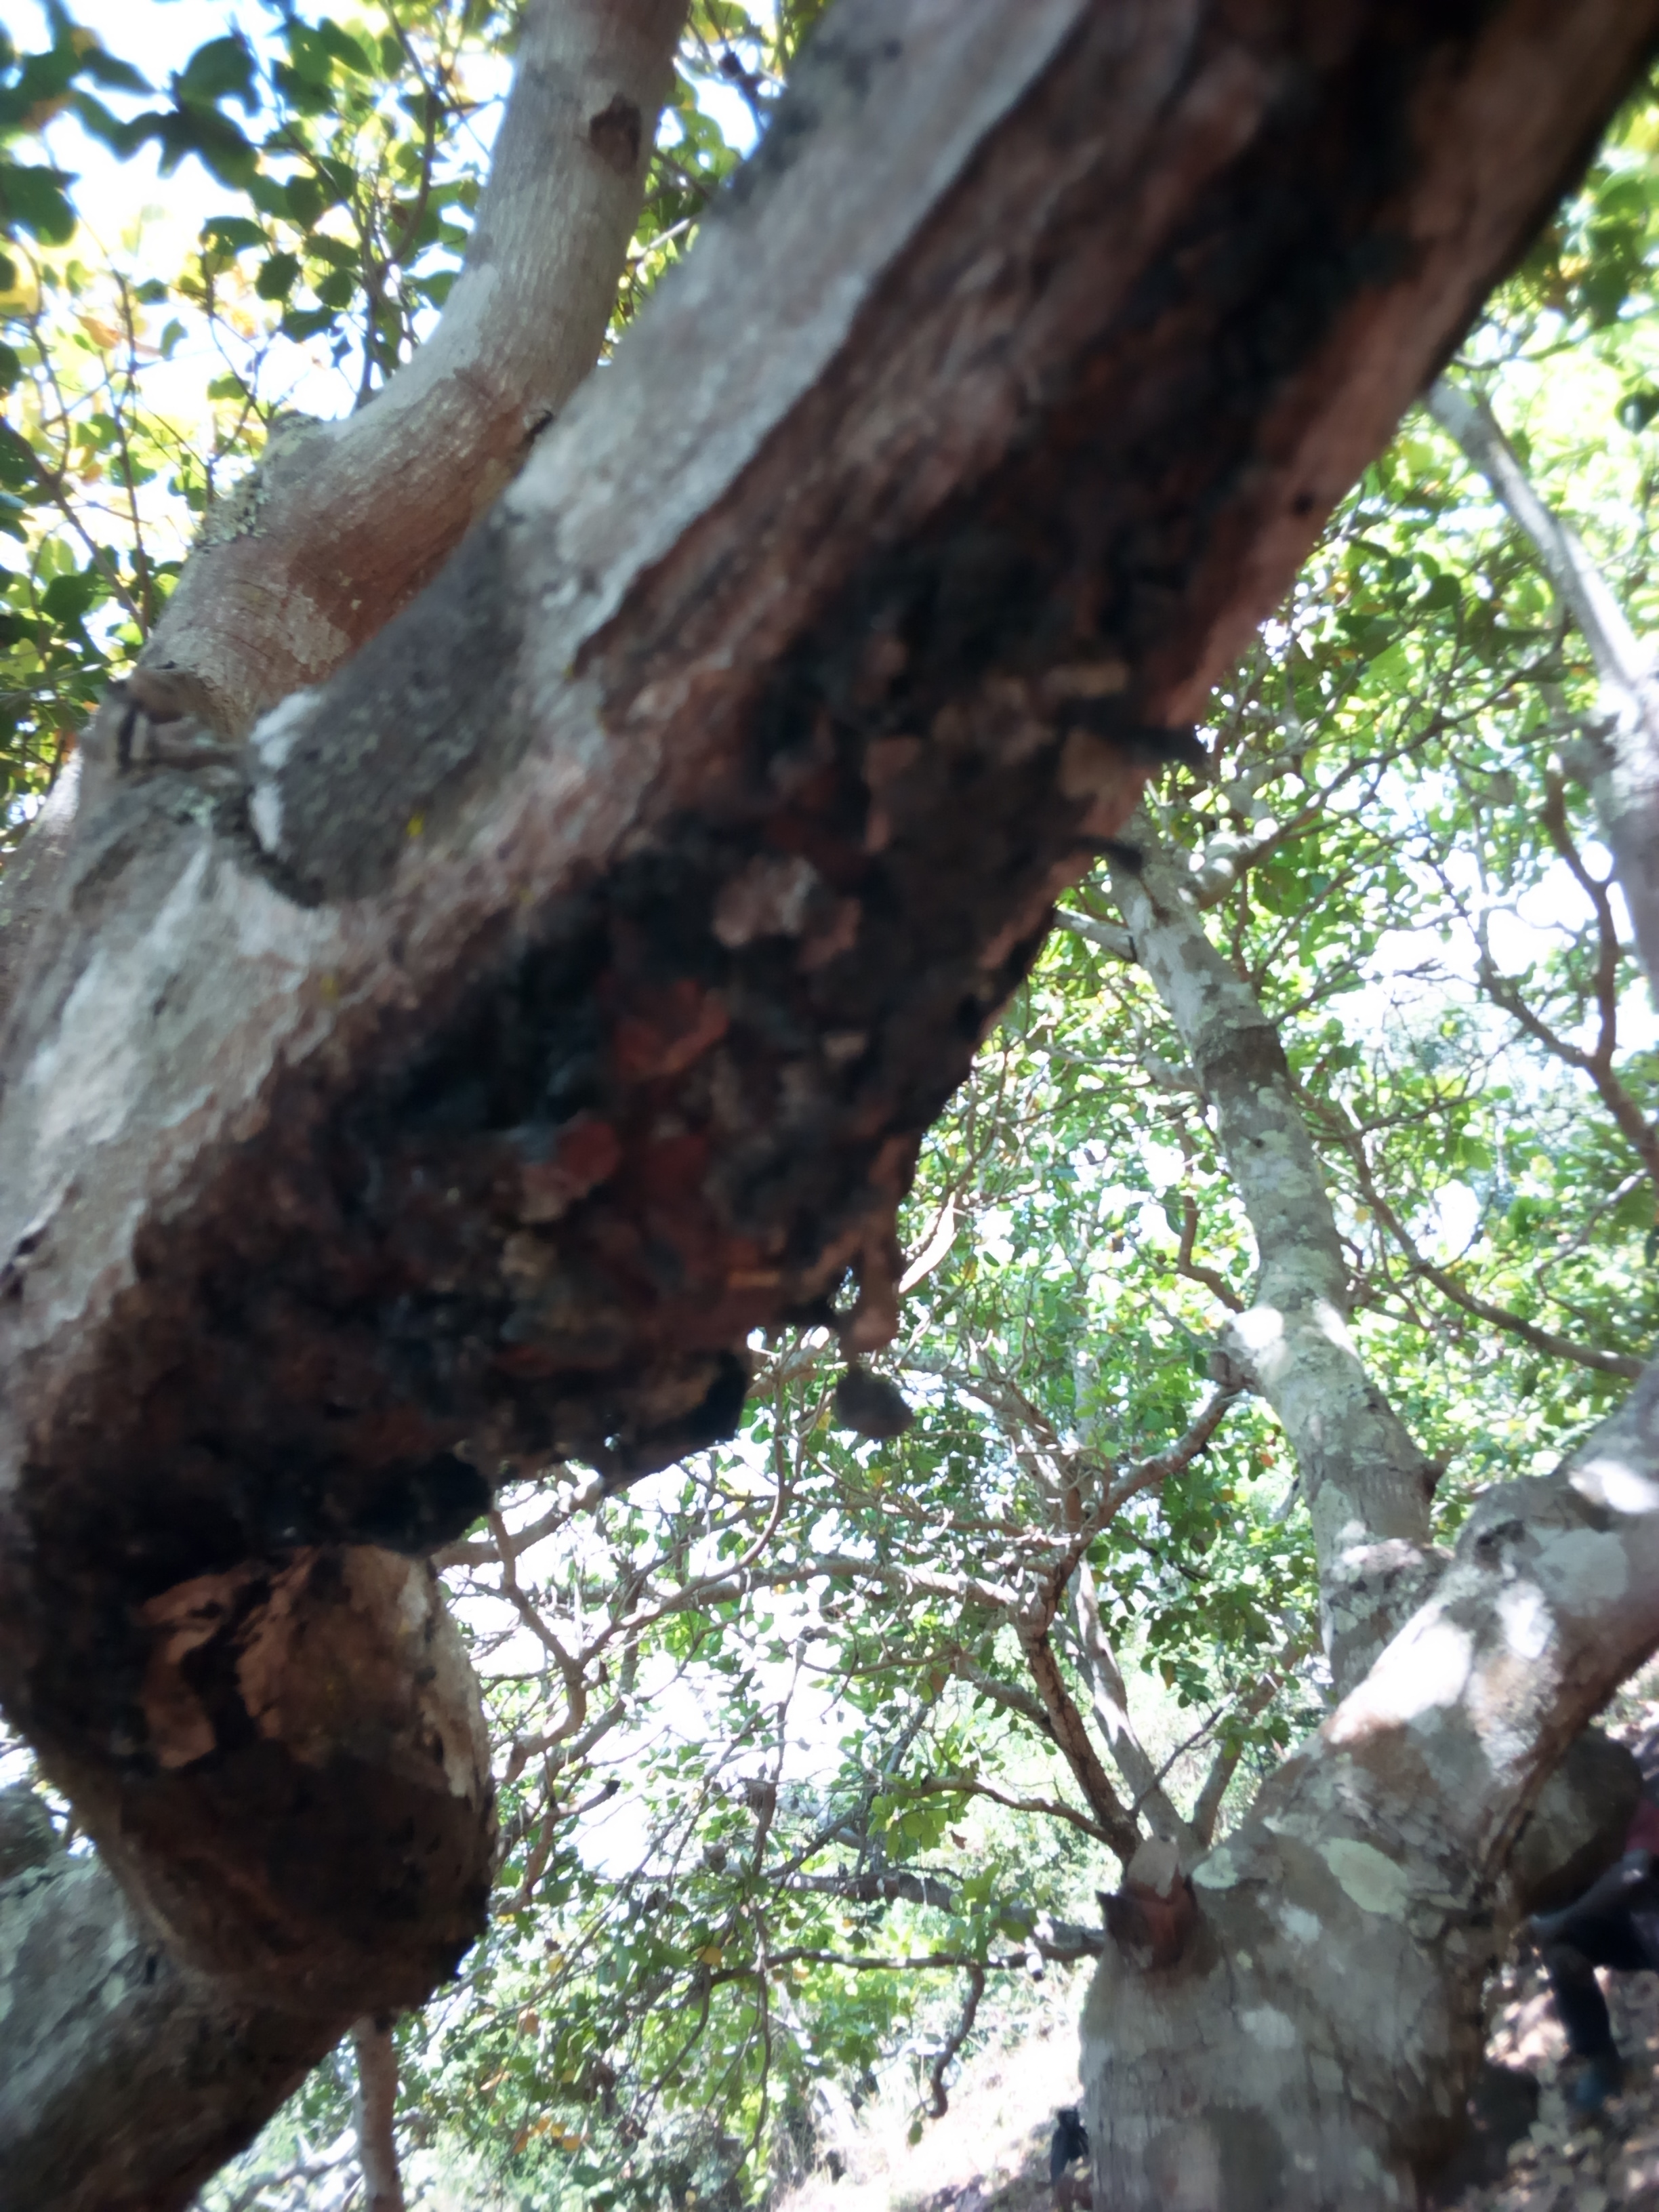Termites: (105, 1127, 596, 1590), (708, 580, 1002, 1228)
